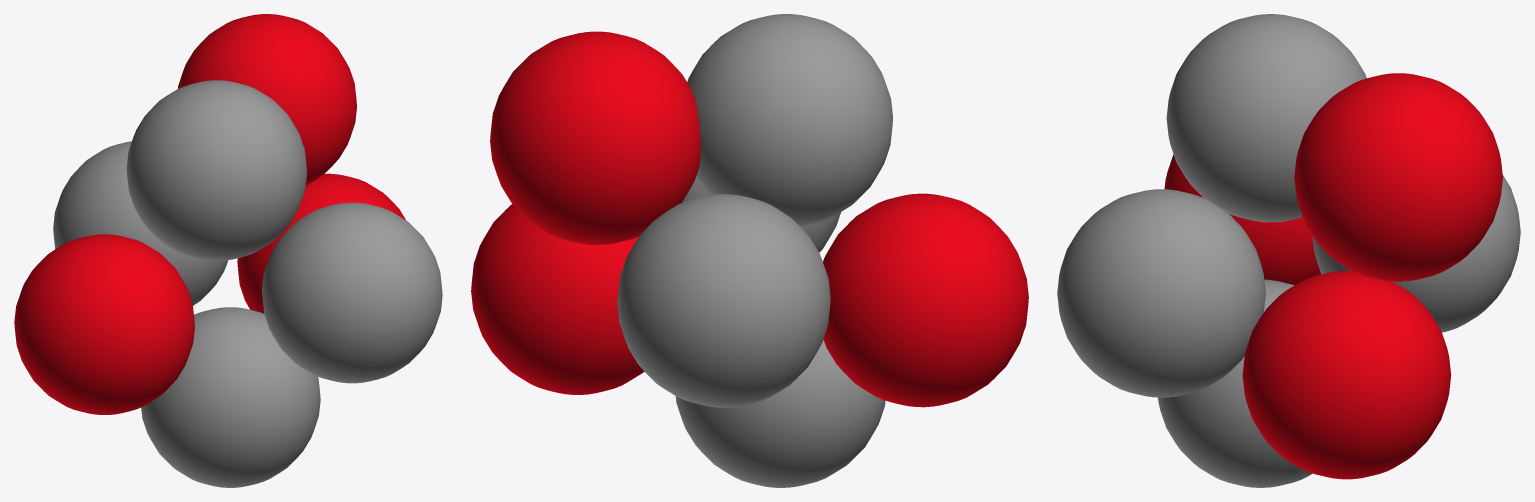
File: core.gltf
The picture shows the model from 3 angles, left to right: view 1: azimuth 30°, elevation 25°; view 2: azimuth 150°, elevation 25°; view 3: azimuth 270°, elevation 25°; orthographic projection. The views are drawn at different scales.
Visible parts, largest first — view 1: Sphere.004, Sphere.006, Sphere.005, Sphere.003, Sphere.007, Sphere.002, Sphere.001; view 2: Sphere.002, Sphere.007, Sphere.006, Sphere.005, Sphere.001, Sphere.003, Sphere.004; view 3: Sphere.007, Sphere.001, Sphere.004, Sphere.005, Sphere.003, Sphere.002, Sphere.006.
Boxes of the visible parts, x1,y1,x2,y2 form: Sphere.004: (262, 202, 442, 383); Sphere.006: (14, 234, 194, 414); Sphere.005: (126, 80, 307, 260); Sphere.003: (141, 307, 320, 487); Sphere.007: (178, 14, 356, 185); Sphere.002: (53, 141, 227, 305); Sphere.001: (237, 173, 405, 313); Sphere.002: (617, 194, 830, 407); Sphere.007: (490, 31, 700, 244); Sphere.006: (823, 193, 1028, 407); Sphere.005: (687, 14, 892, 226); Sphere.001: (471, 204, 644, 394); Sphere.003: (675, 340, 885, 487); Sphere.004: (682, 177, 840, 252); Sphere.007: (1294, 73, 1502, 281); Sphere.001: (1242, 271, 1451, 479); Sphere.004: (1057, 189, 1265, 397); Sphere.005: (1166, 14, 1366, 222); Sphere.003: (1158, 279, 1312, 487); Sphere.002: (1312, 174, 1520, 332); Sphere.006: (1164, 154, 1321, 285).
Size of the model in its own units: 5.28 by 4.75 by 4.44.
